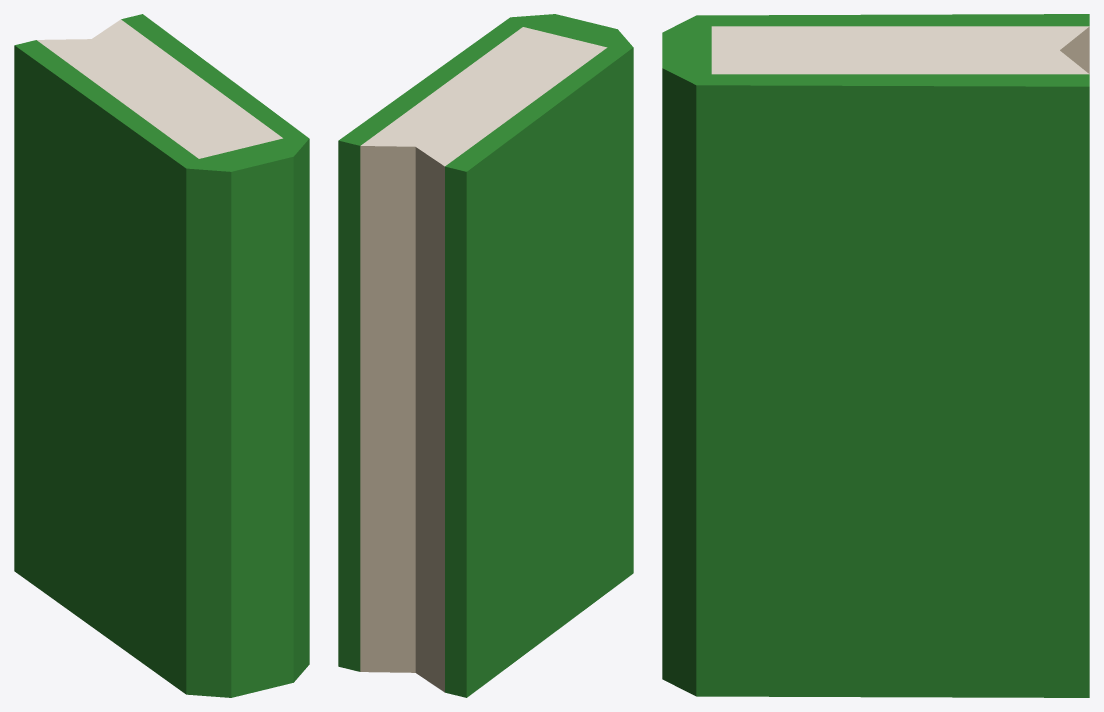
Rendered from TB_D_Prop_Book_Big_A.FBX.
3 renders of one model, left to right at view 1: azimuth 30°, elevation 25°; view 2: azimuth 150°, elevation 25°; view 3: azimuth 270°, elevation 25°, orthographic. The views are drawn at different scales.
Parts seen in each view (by area): view 1: TB_D_Prop_Book_Big_A; view 2: TB_D_Prop_Book_Big_A; view 3: TB_D_Prop_Book_Big_A.
Part boxes in pixels (box(x1,y1,x2,y2)): TB_D_Prop_Book_Big_A: box(14, 14, 309, 697); TB_D_Prop_Book_Big_A: box(338, 14, 633, 697); TB_D_Prop_Book_Big_A: box(662, 14, 1089, 697).
Size of the model in its own units: 0.2144 by 0.8401 by 0.5323.
